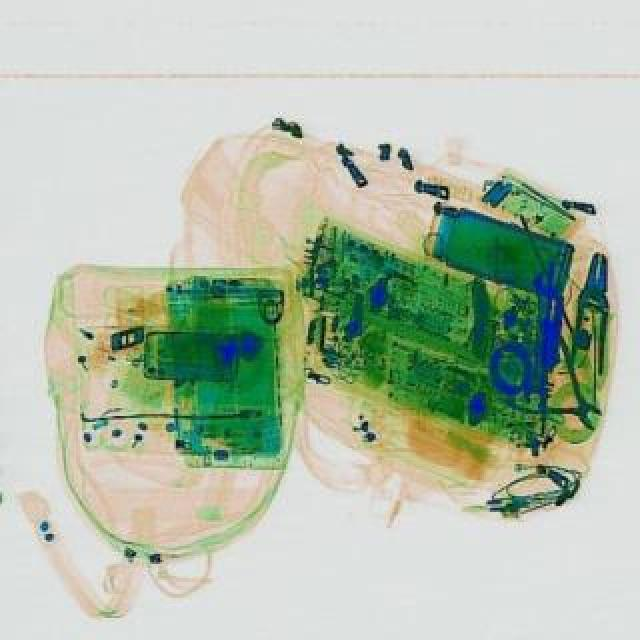wrench: (476, 316, 630, 456), (568, 250, 616, 372)
